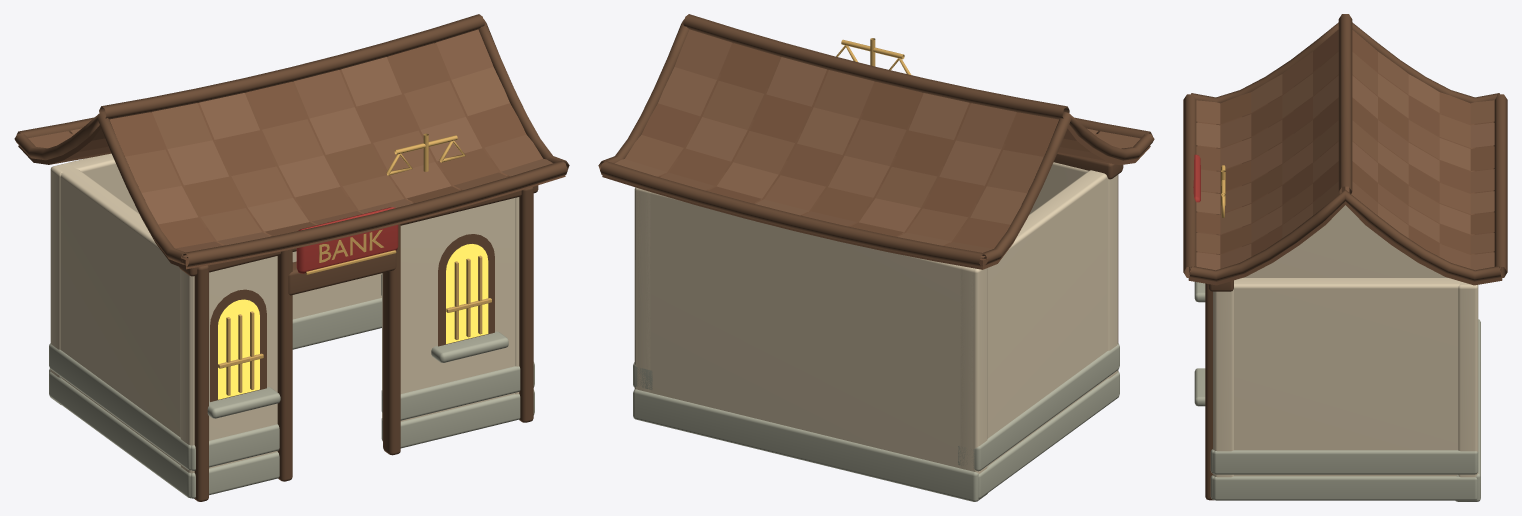
Rendered from bank.glb.
3 renders of one model, left to right at view 1: azimuth 30°, elevation 25°; view 2: azimuth 150°, elevation 25°; view 3: azimuth 270°, elevation 25°, orthographic. The views are drawn at different scales.
Parts seen in each view (by area): view 1: bank-exterior; view 2: bank-exterior; view 3: bank-exterior.
Part boxes in pixels (x1=…): bank-exterior: x1=14, y1=14, x2=569, y2=501; bank-exterior: x1=598, y1=14, x2=1154, y2=501; bank-exterior: x1=1183, y1=14, x2=1507, y2=501.
Bounding box in the file's own units: 3.96 × 3.37 × 3.05.
